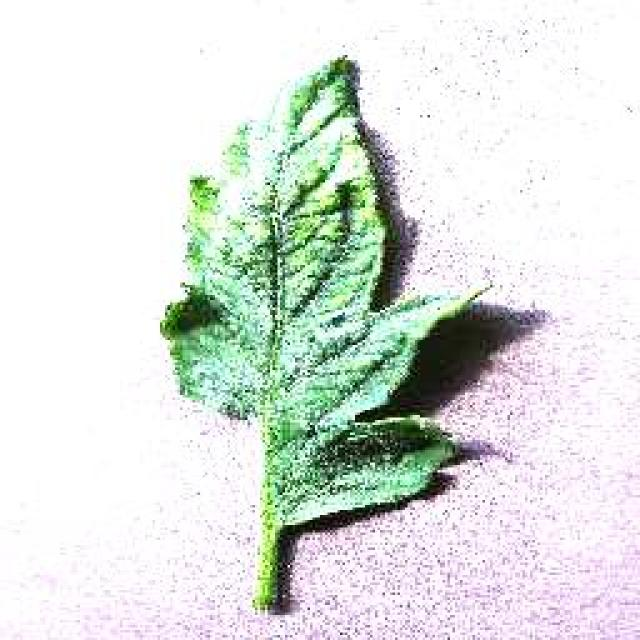Tomato___Tomato_mosaic_virus: (160, 55, 485, 608)
